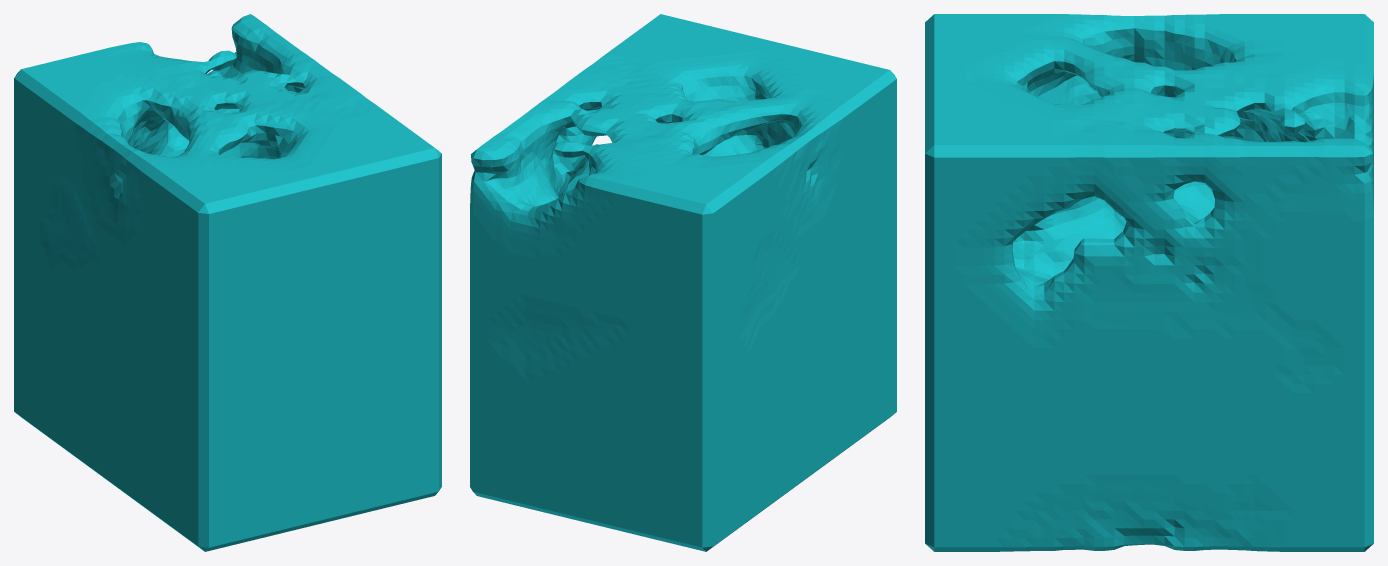
The picture shows the model from 3 angles, left to right: view 1: azimuth 30°, elevation 25°; view 2: azimuth 150°, elevation 25°; view 3: azimuth 270°, elevation 25°; orthographic projection. The views are drawn at different scales.
Parts seen in each view (by area): view 1: Liquid_Domain; view 2: Liquid_Domain; view 3: Liquid_Domain.
Part boxes in pixels (x1,y1,x2,y2): Liquid_Domain: (14, 14, 441, 551); Liquid_Domain: (470, 14, 896, 551); Liquid_Domain: (925, 14, 1373, 551).
Size of the model in its own units: 79.09 by 108 by 108.
